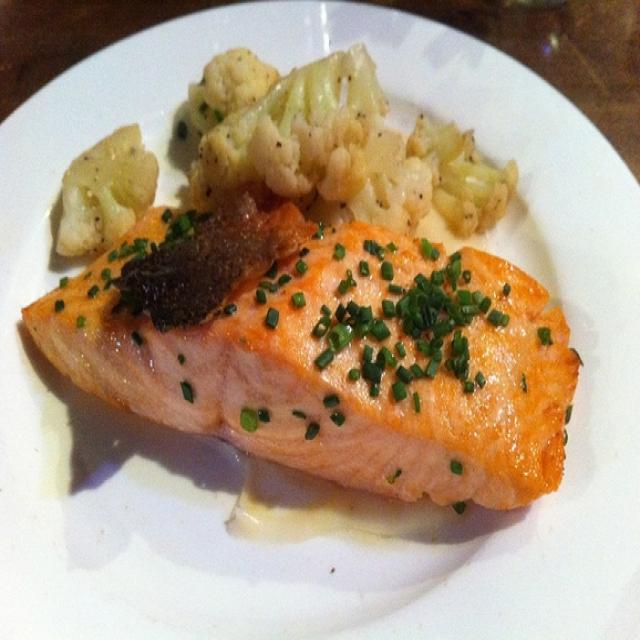熟制海鲜: (28, 68, 606, 570)
